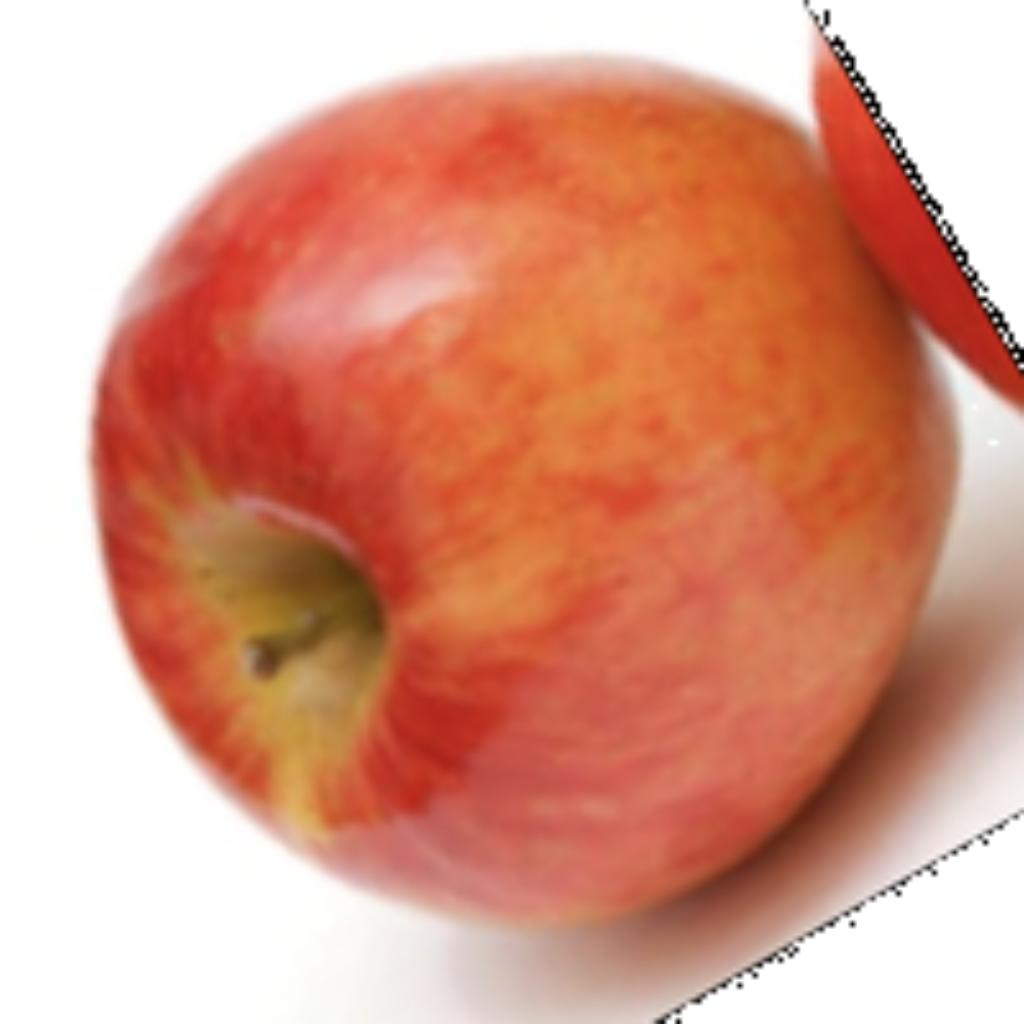apple: (77, 26, 1019, 1019)
